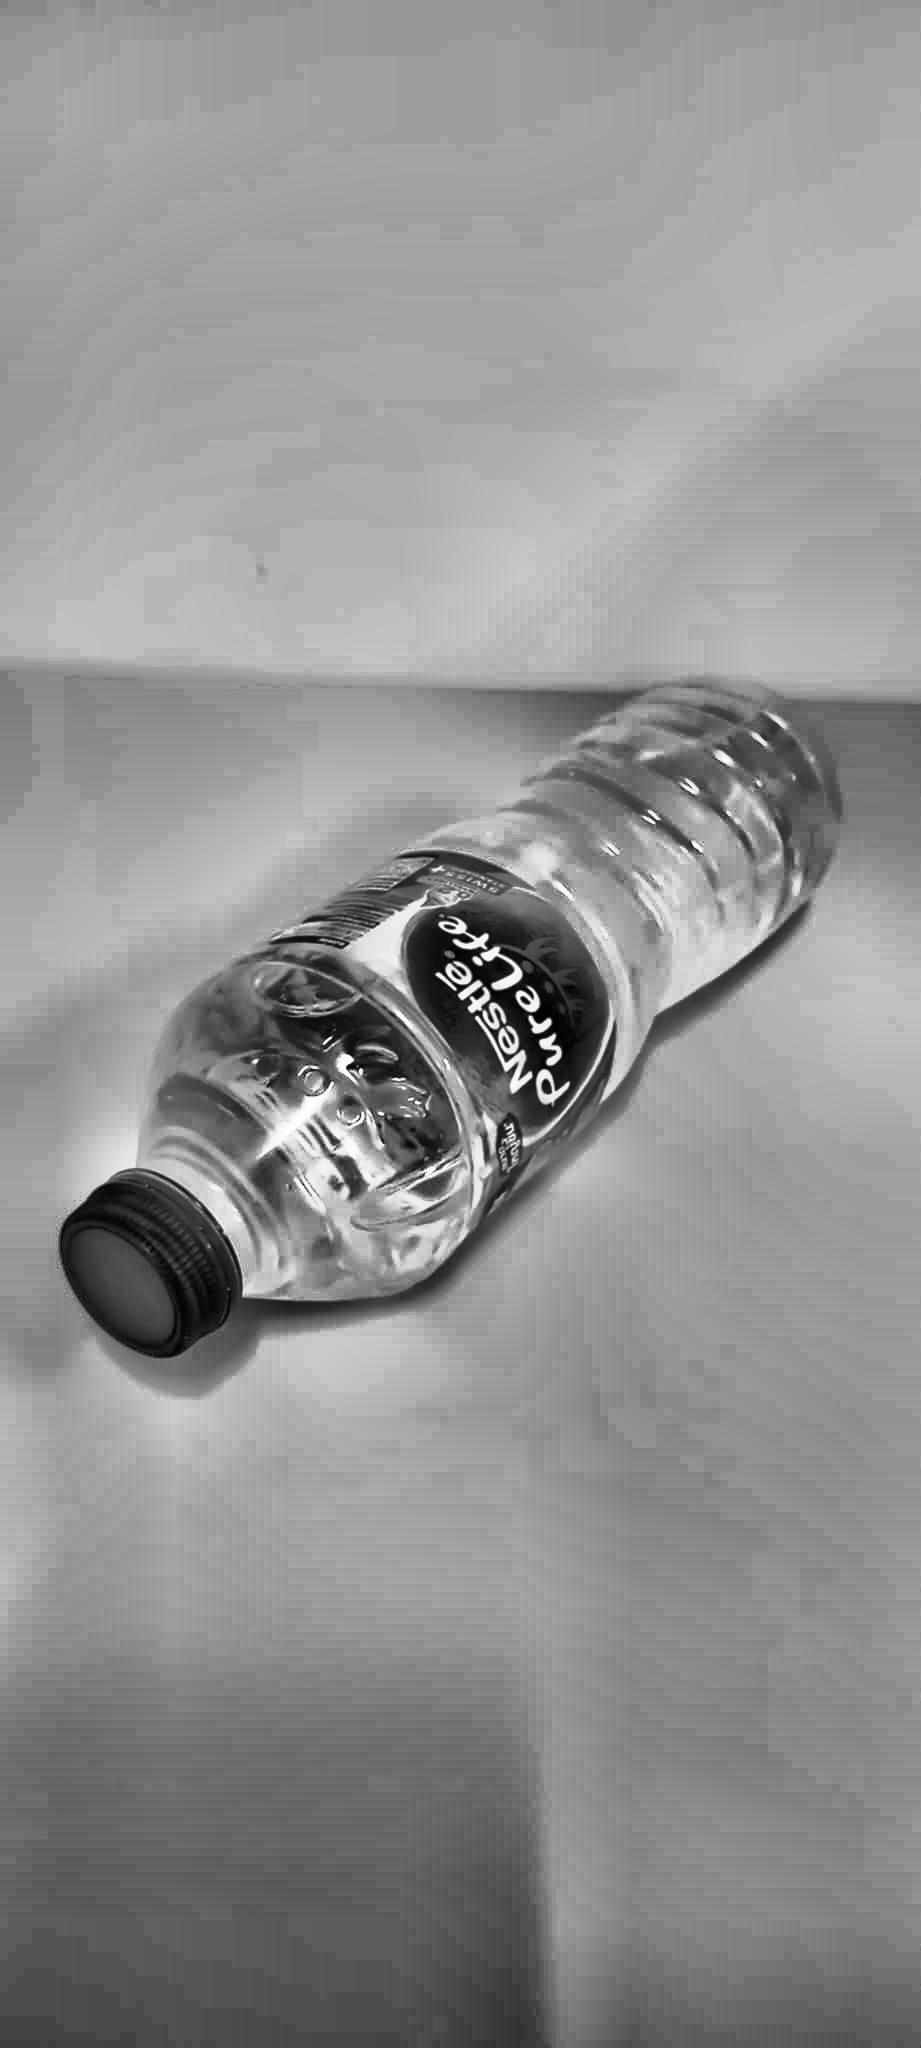waterbottle: (26, 381, 875, 1570)
